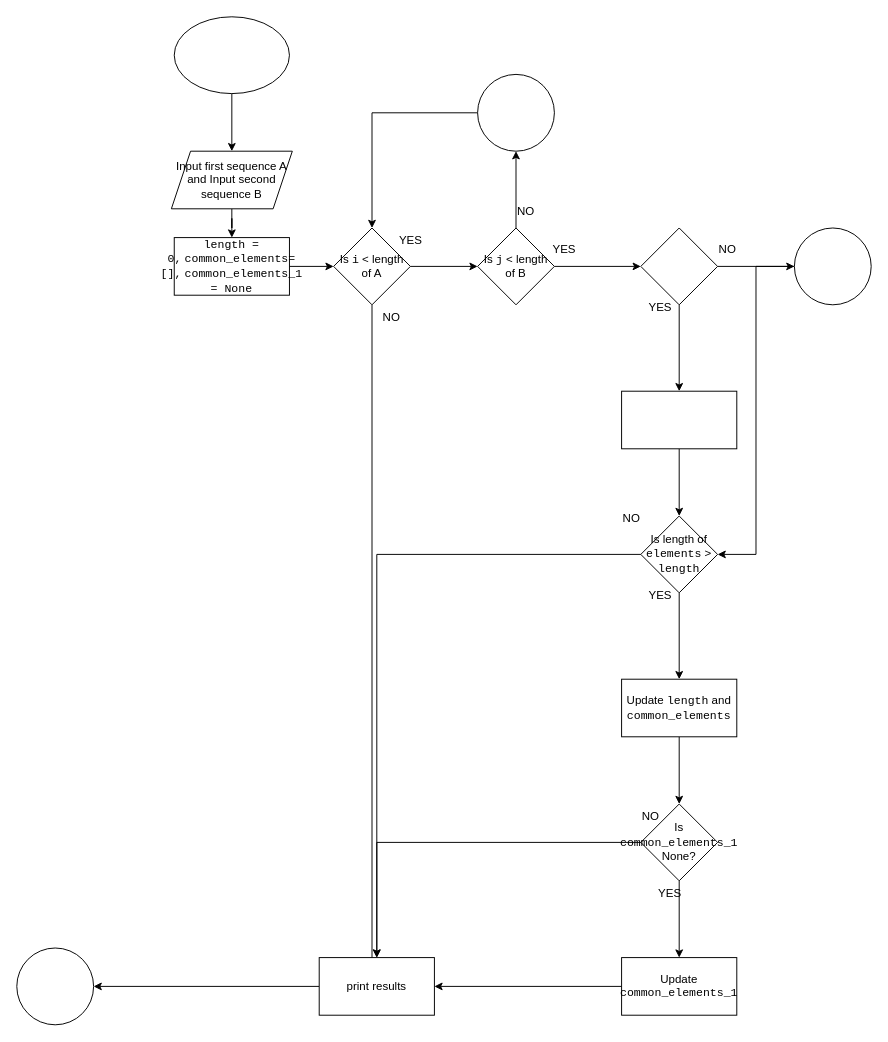
Image size: 888x1042. Some labels were removed from this diagram. Here are the shapes that lost their labels. From the top down, the centre of each, then its label:
At (231,55): "Start".
At (679,266): "A[x] == B[y]".
At (679,419): "Append A[x] to elements".
At (55,986): "The end".
